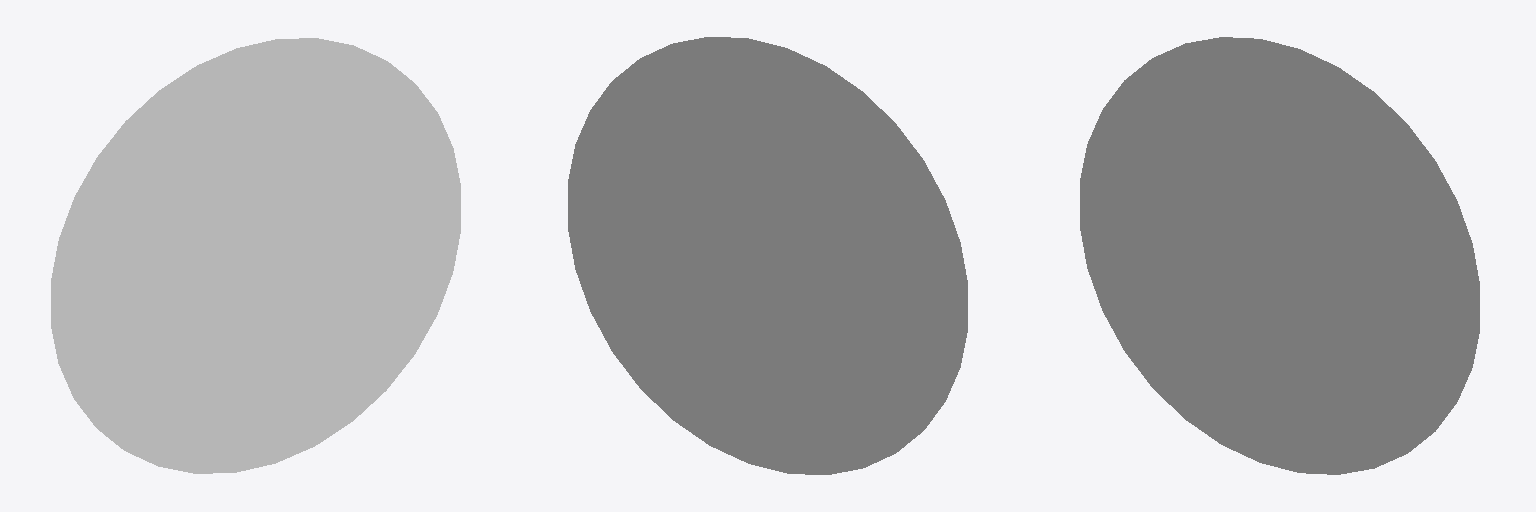
File: player.obj
3 renders of one model, left to right at view 1: azimuth 30°, elevation 25°; view 2: azimuth 150°, elevation 25°; view 3: azimuth 330°, elevation 25°, orthographic.
Parts seen in each view (by area): view 1: Sphere.001; view 2: Sphere.001; view 3: Sphere.001.
Boxes of the visible parts, x1=… form: Sphere.001: x1=51, y1=38, x2=460, y2=473; Sphere.001: x1=568, y1=37, x2=967, y2=474; Sphere.001: x1=1080, y1=37, x2=1479, y2=474.
Bounding box in the file's own units: 0.9952 × 0.9954 × 0.0211.